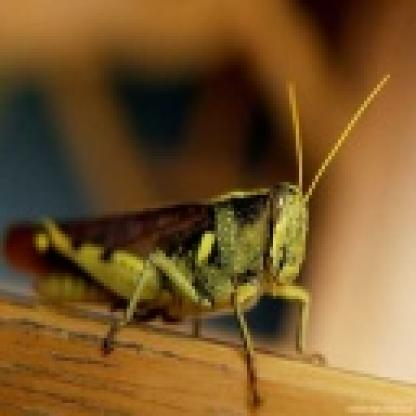grasshopper: (0, 70, 391, 404)
